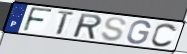C: (150, 22, 179, 48)
F: (22, 6, 55, 34)
G: (125, 20, 152, 46)
R: (73, 12, 104, 41)
S: (99, 16, 128, 42)
T: (55, 10, 77, 37)
